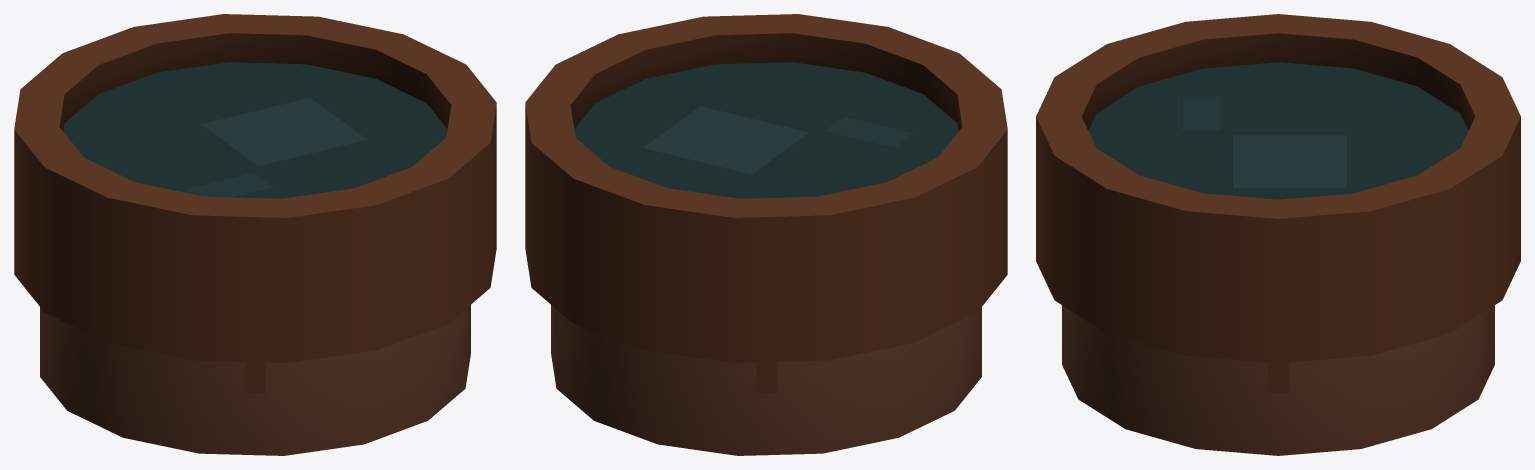
File: pipe.riser.rust.glb
3 views of the same model, side by side, from view 1: azimuth 30°, elevation 25°; view 2: azimuth 150°, elevation 25°; view 3: azimuth 270°, elevation 25° (orthographic).
Parts seen in each view (by area): view 1: pipe_riser_rust; view 2: pipe_riser_rust; view 3: pipe_riser_rust.
Boxes of the visible parts, bbox=[...] form: pipe_riser_rust: bbox=[14, 14, 496, 455]; pipe_riser_rust: bbox=[525, 14, 1007, 455]; pipe_riser_rust: bbox=[1036, 14, 1520, 455].
Size of what is drawn, in the model's own units: 2.13 by 1.2 by 2.13.
